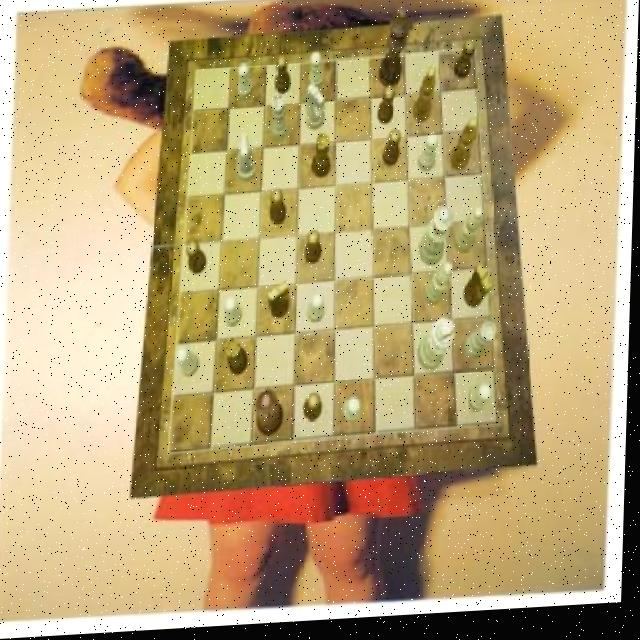bishop: (451, 124, 479, 178), (413, 72, 437, 129)
black-bishop: (379, 12, 411, 94)
black-king: (466, 271, 494, 316), (269, 285, 293, 322)
black-knight: (455, 45, 476, 85), (383, 133, 402, 172), (187, 244, 208, 279), (380, 91, 397, 130), (276, 59, 293, 98), (271, 193, 289, 228), (307, 234, 325, 268), (305, 397, 325, 425)
black-pawn: (257, 392, 288, 441)
black-queen: (228, 340, 252, 379), (314, 137, 333, 183)
black-rook: (457, 212, 485, 259), (426, 268, 455, 312)
white-bishop: (420, 323, 458, 377)
white-king: (238, 137, 260, 187), (308, 88, 329, 134)
white-knight: (418, 139, 439, 179), (178, 349, 203, 381), (237, 65, 255, 104), (310, 55, 327, 95), (471, 389, 495, 417), (226, 297, 244, 329), (309, 297, 327, 327), (345, 401, 363, 427)
white-pawn: (421, 211, 455, 273)
white-queen: (468, 329, 501, 366), (272, 97, 292, 143)
